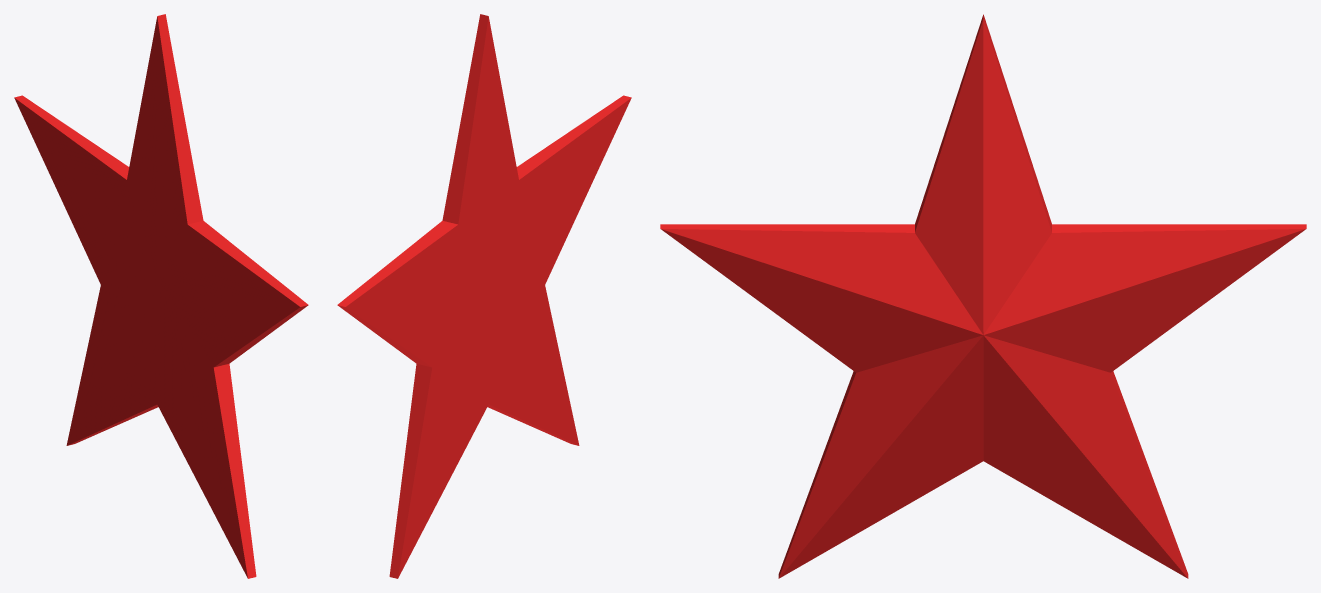
File: Red Star.glb
3 renders of one model, left to right at view 1: azimuth 30°, elevation 25°; view 2: azimuth 150°, elevation 25°; view 3: azimuth 270°, elevation 25°, orthographic. The views are drawn at different scales.
Visible parts, largest first — view 1: Star.001; view 2: Star.001; view 3: Star.001.
Part boxes in pixels (<box>): Star.001: <box>14,14,308,578</box>; Star.001: <box>337,14,631,578</box>; Star.001: <box>660,14,1306,578</box>.
Size of the model in its own units: 0.3469 by 3.86 by 4.03.
1 material, 1 textured.
